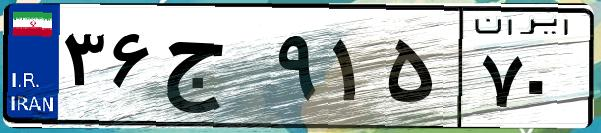0: (525, 38, 570, 115)
1: (330, 28, 385, 110)
3: (57, 26, 110, 100)
5: (385, 28, 445, 110)
6: (110, 28, 158, 98)
7: (475, 38, 525, 113)
9: (270, 28, 330, 110)
ج: (158, 20, 270, 120)
